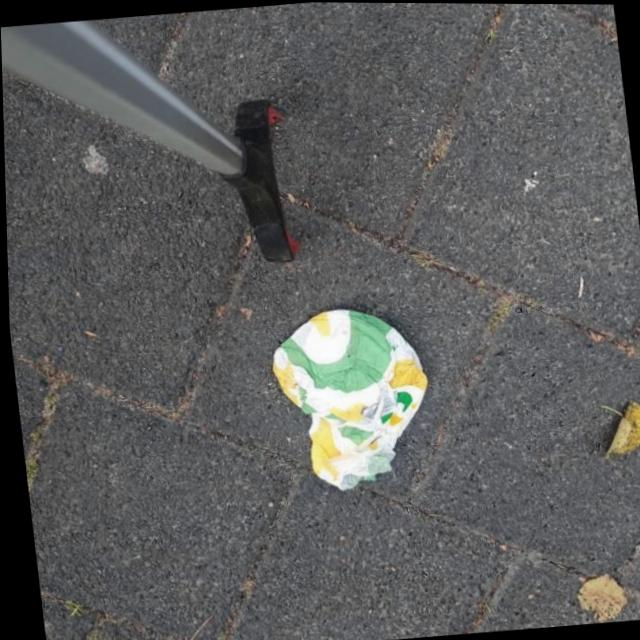Paper: (262, 298, 439, 497)
